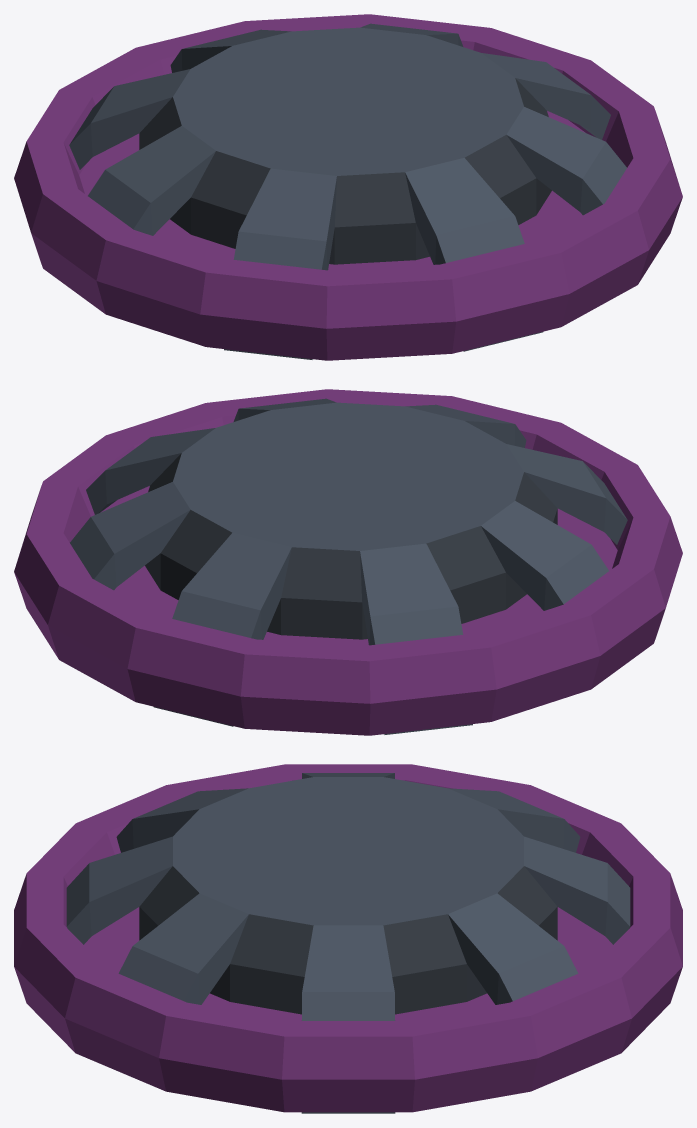
File: mine.gltf
The picture shows the model from 3 angles, top to bottom: view 1: azimuth 30°, elevation 25°; view 2: azimuth 150°, elevation 25°; view 3: azimuth 270°, elevation 25°; orthographic projection.
Parts seen in each view (by area): view 1: cylinder (×2); view 2: cylinder (×2); view 3: cylinder (×2).
Part boxes in pixels (left/top/right/bottom): cylinder (×2): left=14, top=14, right=682, bottom=360; cylinder (×2): left=14, top=389, right=682, bottom=735; cylinder (×2): left=14, top=764, right=682, bottom=1113.
Bounding box in the file's own units: 1 × 0.2128 × 1.
1 material, 1 textured.
